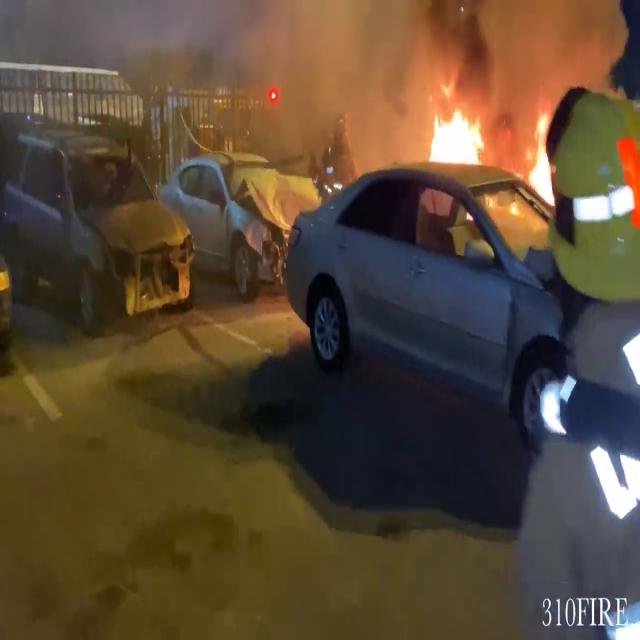Fire: (417, 88, 491, 173), (521, 112, 559, 210)
Smoke: (248, 1, 624, 146)
